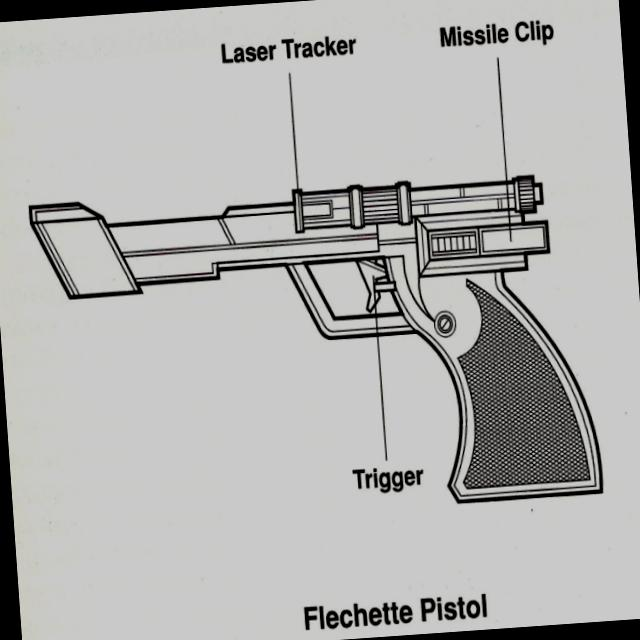handgun: (21, 158, 604, 534)
